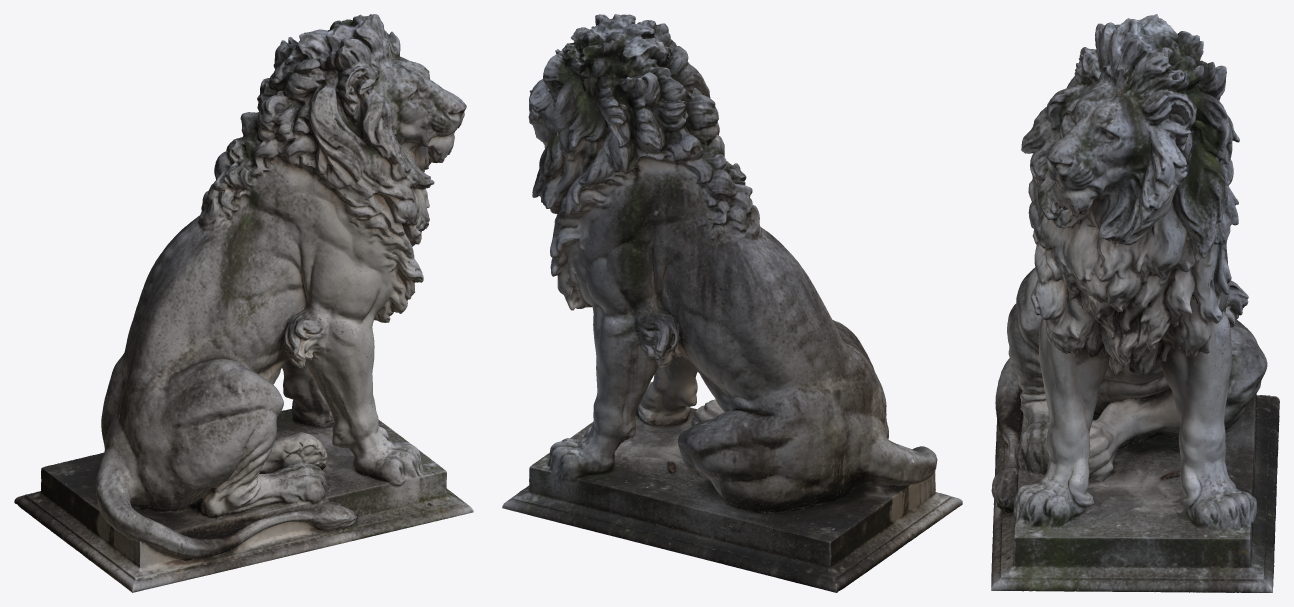
File: vienna-lowe.glb
3 views of the same model, side by side, from view 1: azimuth 30°, elevation 25°; view 2: azimuth 150°, elevation 25°; view 3: azimuth 270°, elevation 25° (orthographic). The views are drawn at different scales.
Visible parts, largest first — view 1: Object_3, Object_6, Object_2, Object_5, Object_4; view 2: Object_3, Object_4, Object_6, Object_5, Object_2; view 3: Object_4, Object_6, Object_2, Object_5, Object_3, Object_7.
Part boxes in pixels (left/top/right/bottom): Object_3: left=26, top=133, right=473, bottom=592; Object_6: left=173, top=14, right=466, bottom=562; Object_2: left=14, top=314, right=462, bottom=592; Object_5: left=15, top=107, right=446, bottom=585; Object_4: left=41, top=156, right=429, bottom=588; Object_3: left=502, top=164, right=956, bottom=583; Object_4: left=503, top=164, right=961, bottom=567; Object_6: left=528, top=14, right=853, bottom=467; Object_5: left=532, top=133, right=960, bottom=589; Object_2: left=573, top=251, right=962, bottom=592; Object_4: left=994, top=146, right=1276, bottom=589; Object_6: left=993, top=14, right=1239, bottom=588; Object_2: left=991, top=268, right=1279, bottom=578; Object_5: left=995, top=89, right=1279, bottom=564; Object_3: left=991, top=170, right=1278, bottom=592; Object_7: left=992, top=408, right=1277, bottom=592.
Bounding box in the file's own units: 1.27 × 1.53 × 0.7538.
1 material, 1 textured.
